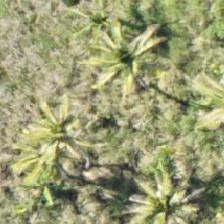coconut_tree: (72, 9, 162, 99), (12, 90, 102, 180), (119, 164, 209, 223)
